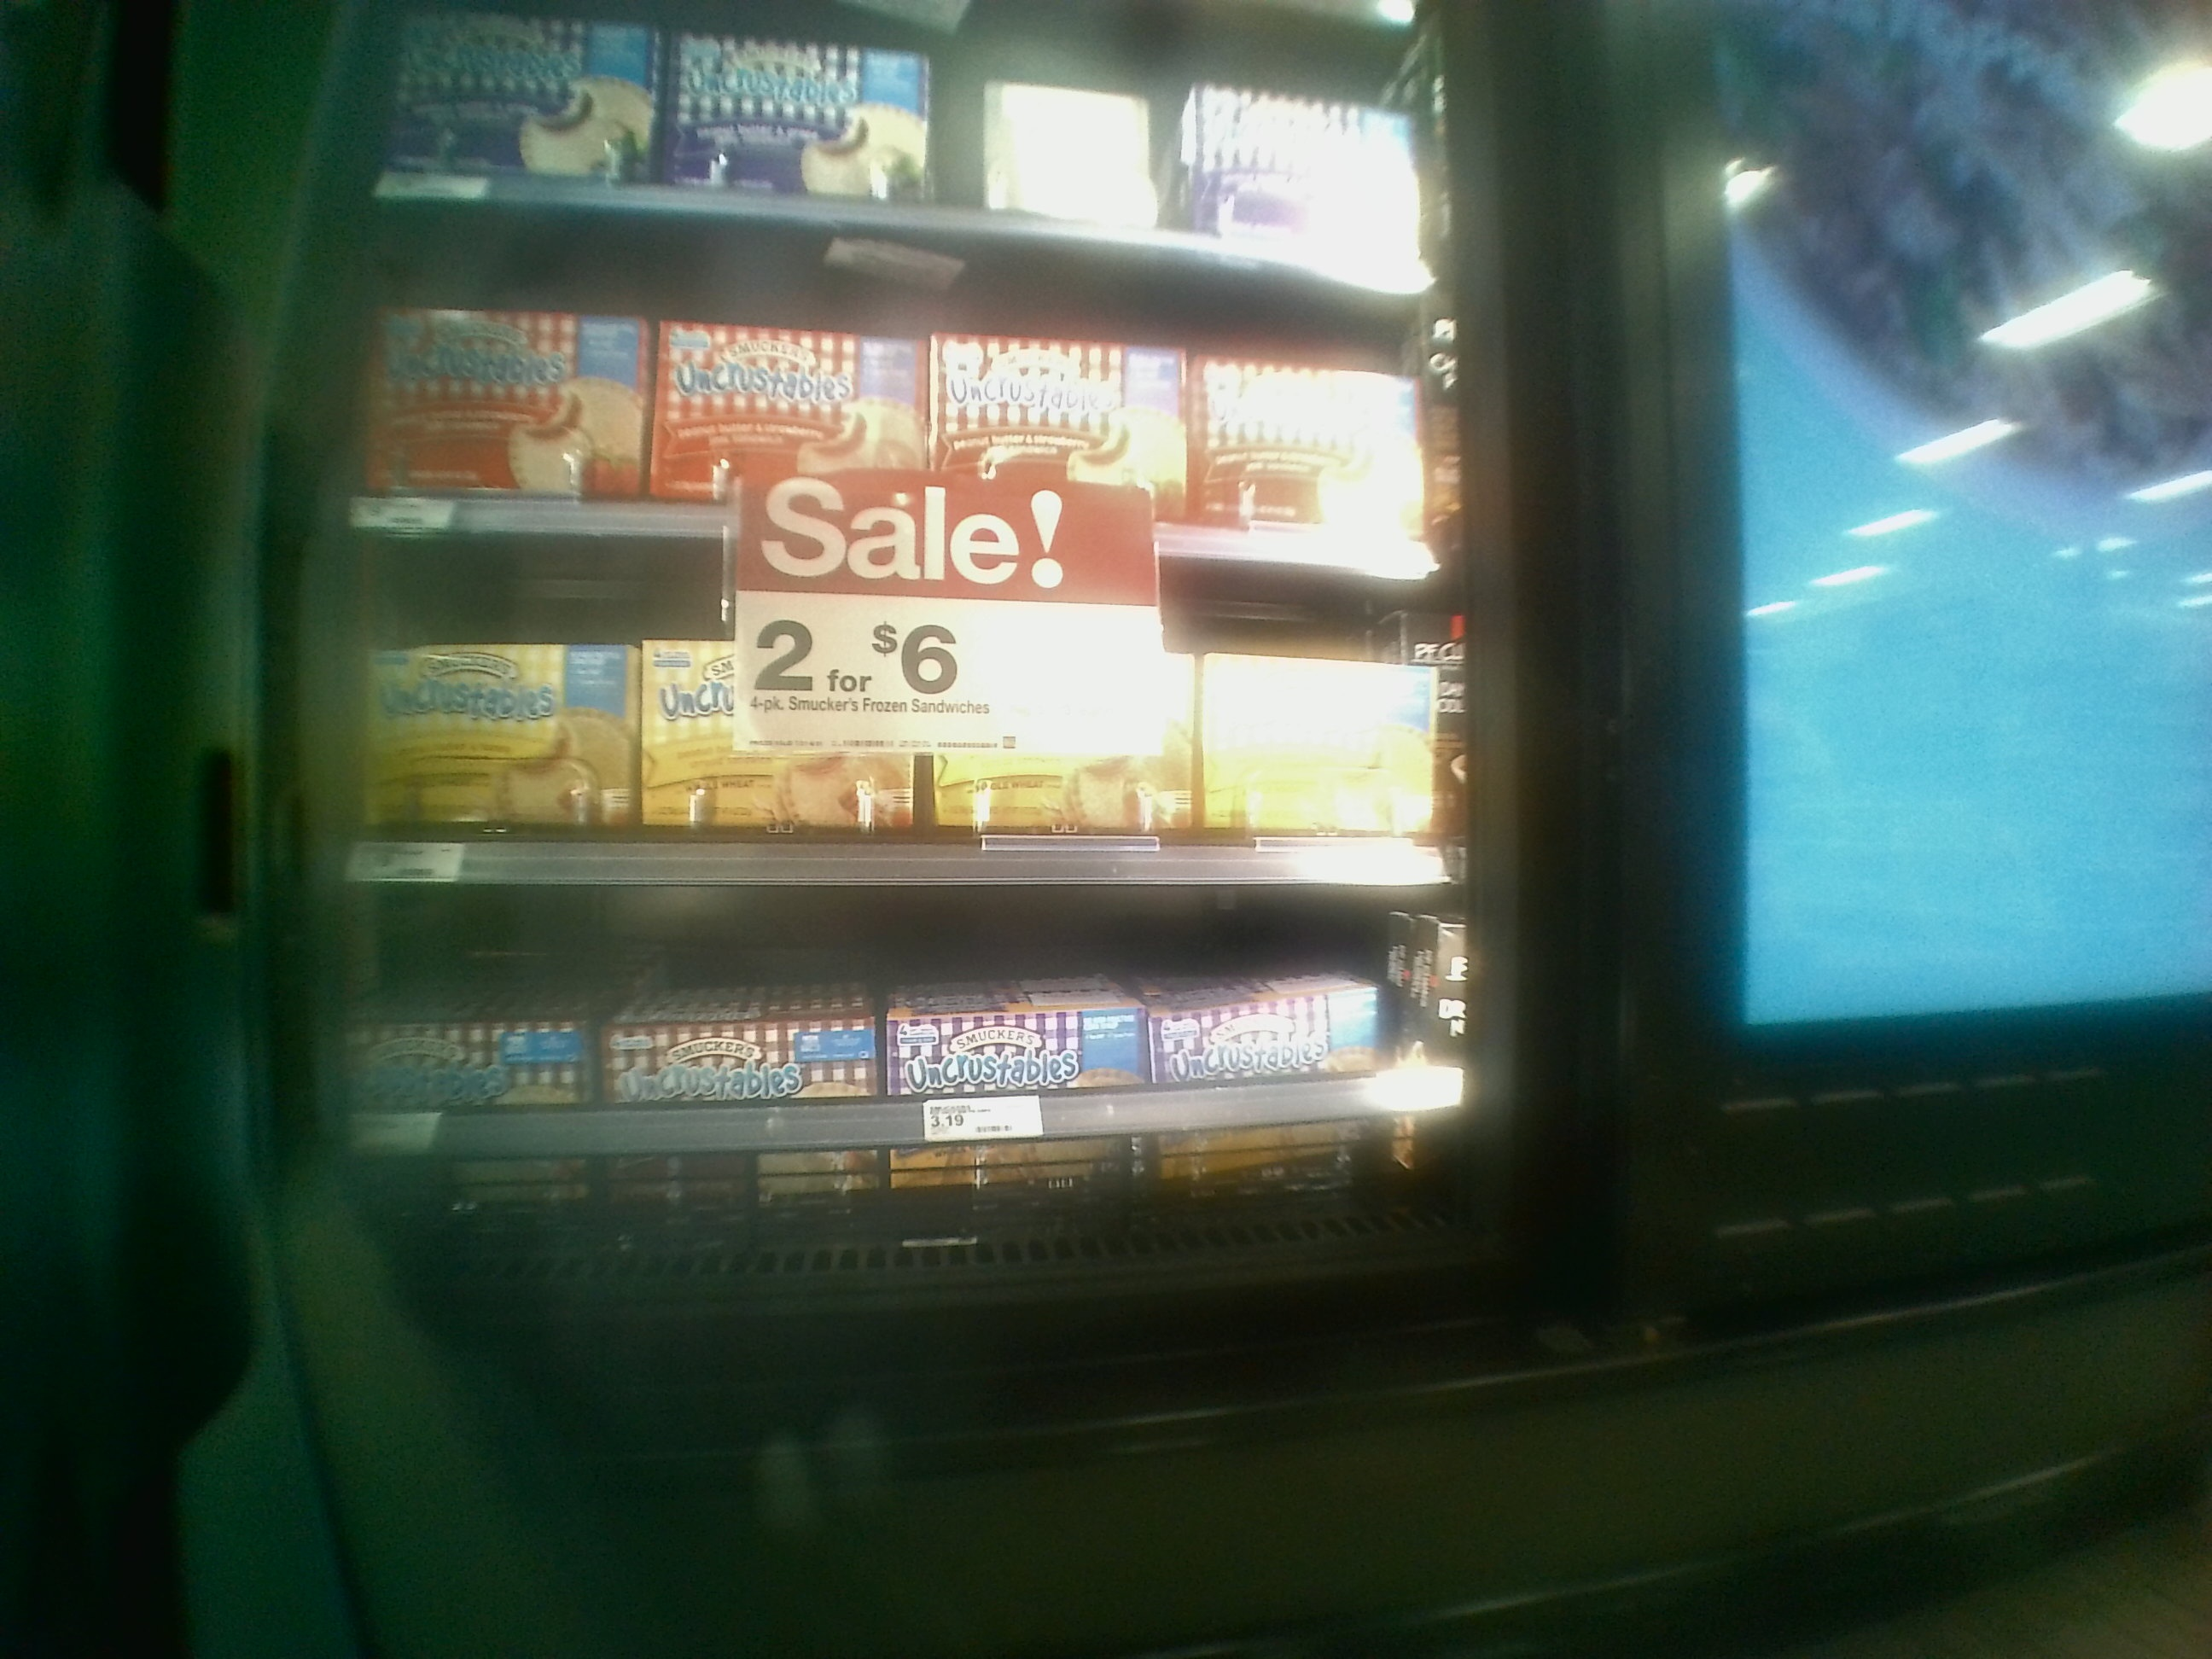shelf: (334, 202, 1442, 561), (333, 519, 1465, 866), (308, 861, 1449, 1117)
